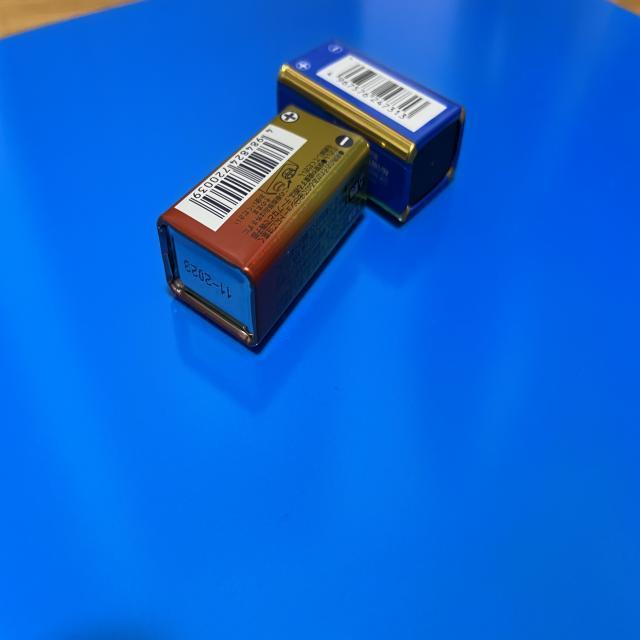9V: (157, 104, 371, 352), (277, 37, 467, 226)
